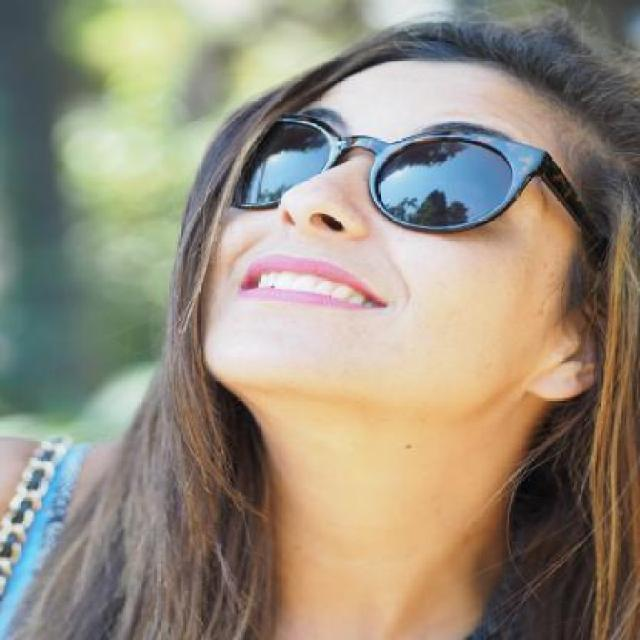face_nomask: (207, 109, 513, 358)
glasses: (230, 110, 607, 238)
